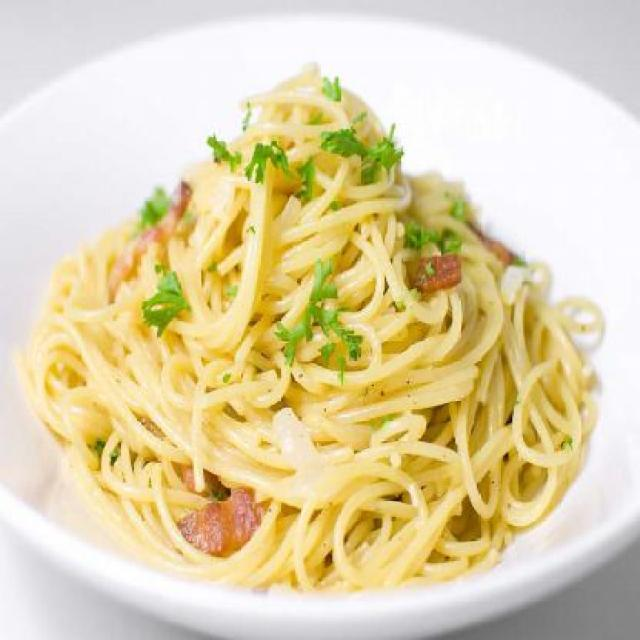Pasta with carbonara sauce: (33, 25, 639, 628)
